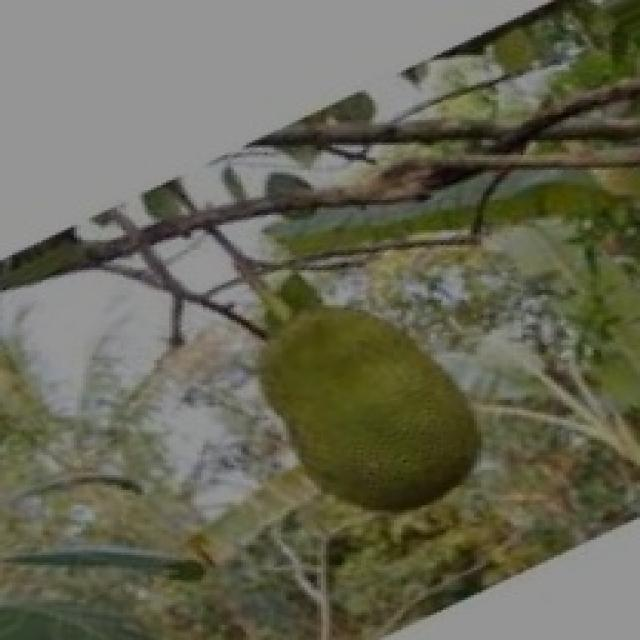Fruit: (225, 277, 508, 545)
